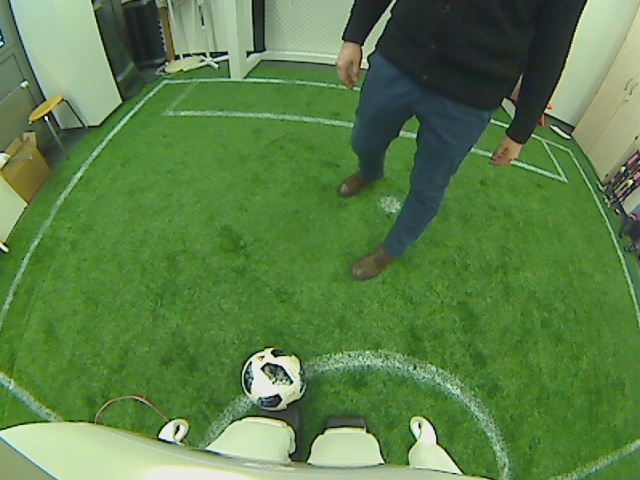ball: (239, 344, 306, 410)
